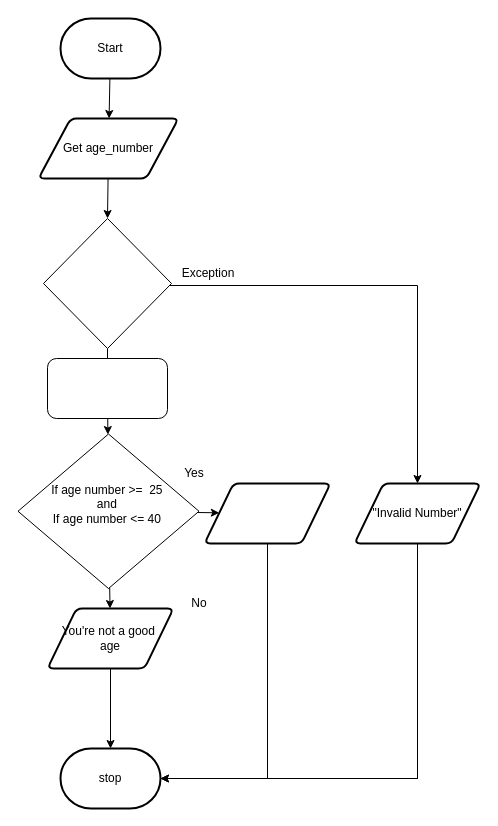
This 498x826 diagram has some shape labels left out. Each missing label, with the centre of its shape:
"convert string to int" belongs at (107,388).
"Try" belongs at (107,283).
"You're a good age" belongs at (267,513).
